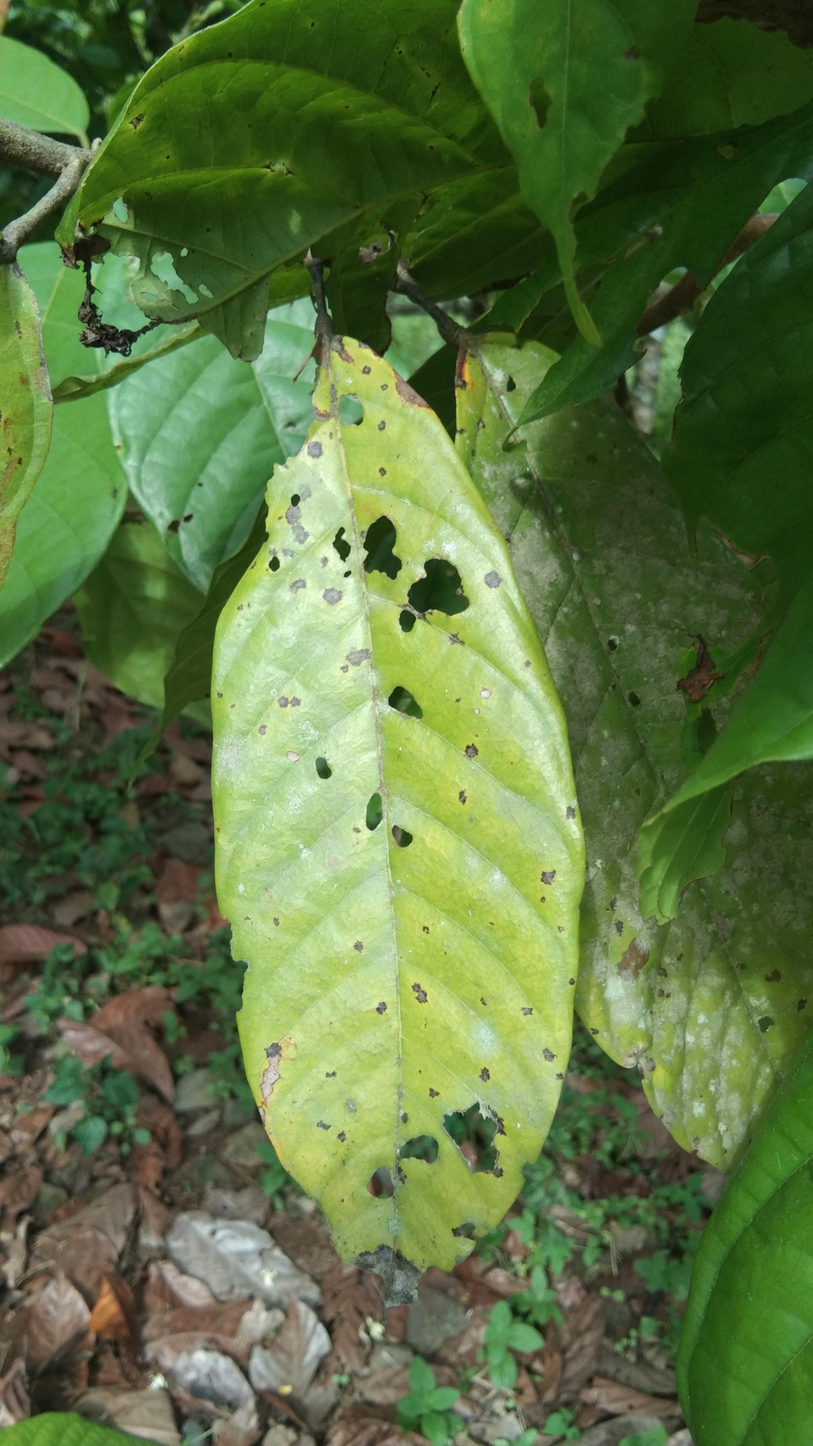deficiencia_potasio: (203, 325, 584, 1275)
